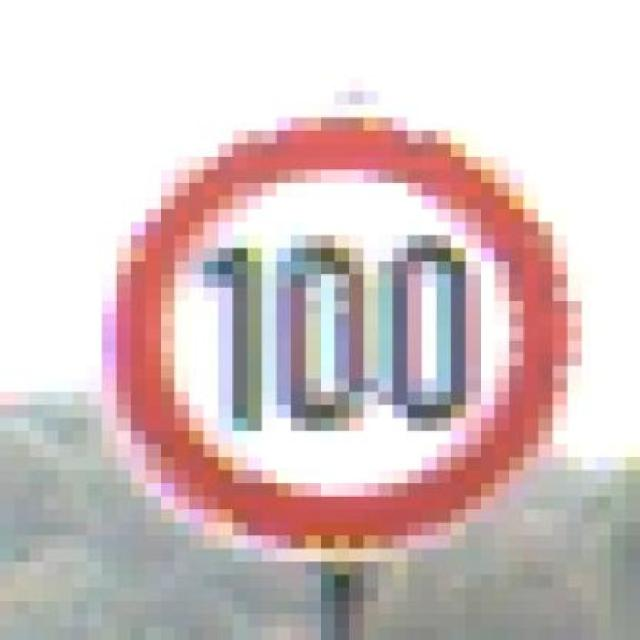forb_speed_over_100: (104, 116, 575, 550)
